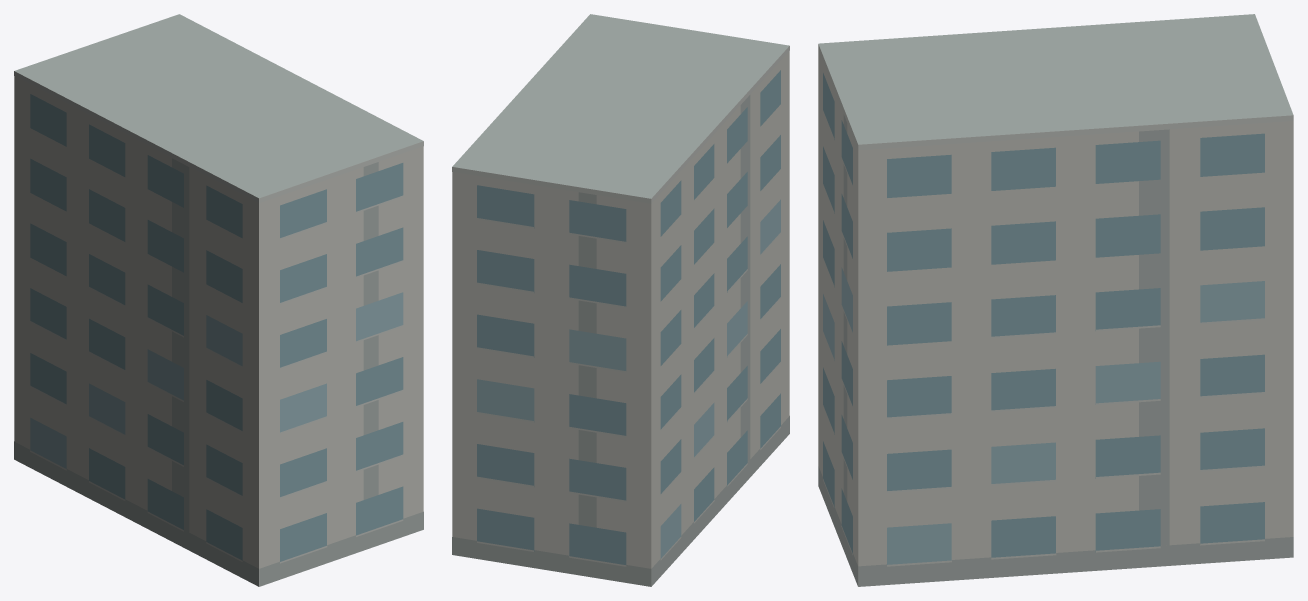
The model's file is survey-upis-32990564.glb.
3 views of the same model, side by side, from view 1: azimuth 30°, elevation 25°; view 2: azimuth 150°, elevation 25°; view 3: azimuth 270°, elevation 25° (orthographic). The views are drawn at different scales.
Parts seen in each view (by area): view 1: survey-upis-32990564.tmp; view 2: survey-upis-32990564.tmp; view 3: survey-upis-32990564.tmp.
Boxes of the visible parts, x1,y1,x2,y2 form: survey-upis-32990564.tmp: [14, 14, 423, 586]; survey-upis-32990564.tmp: [452, 14, 789, 586]; survey-upis-32990564.tmp: [818, 14, 1293, 586].
Bounding box in the file's own units: 11.9 × 18.75 × 18.28.
